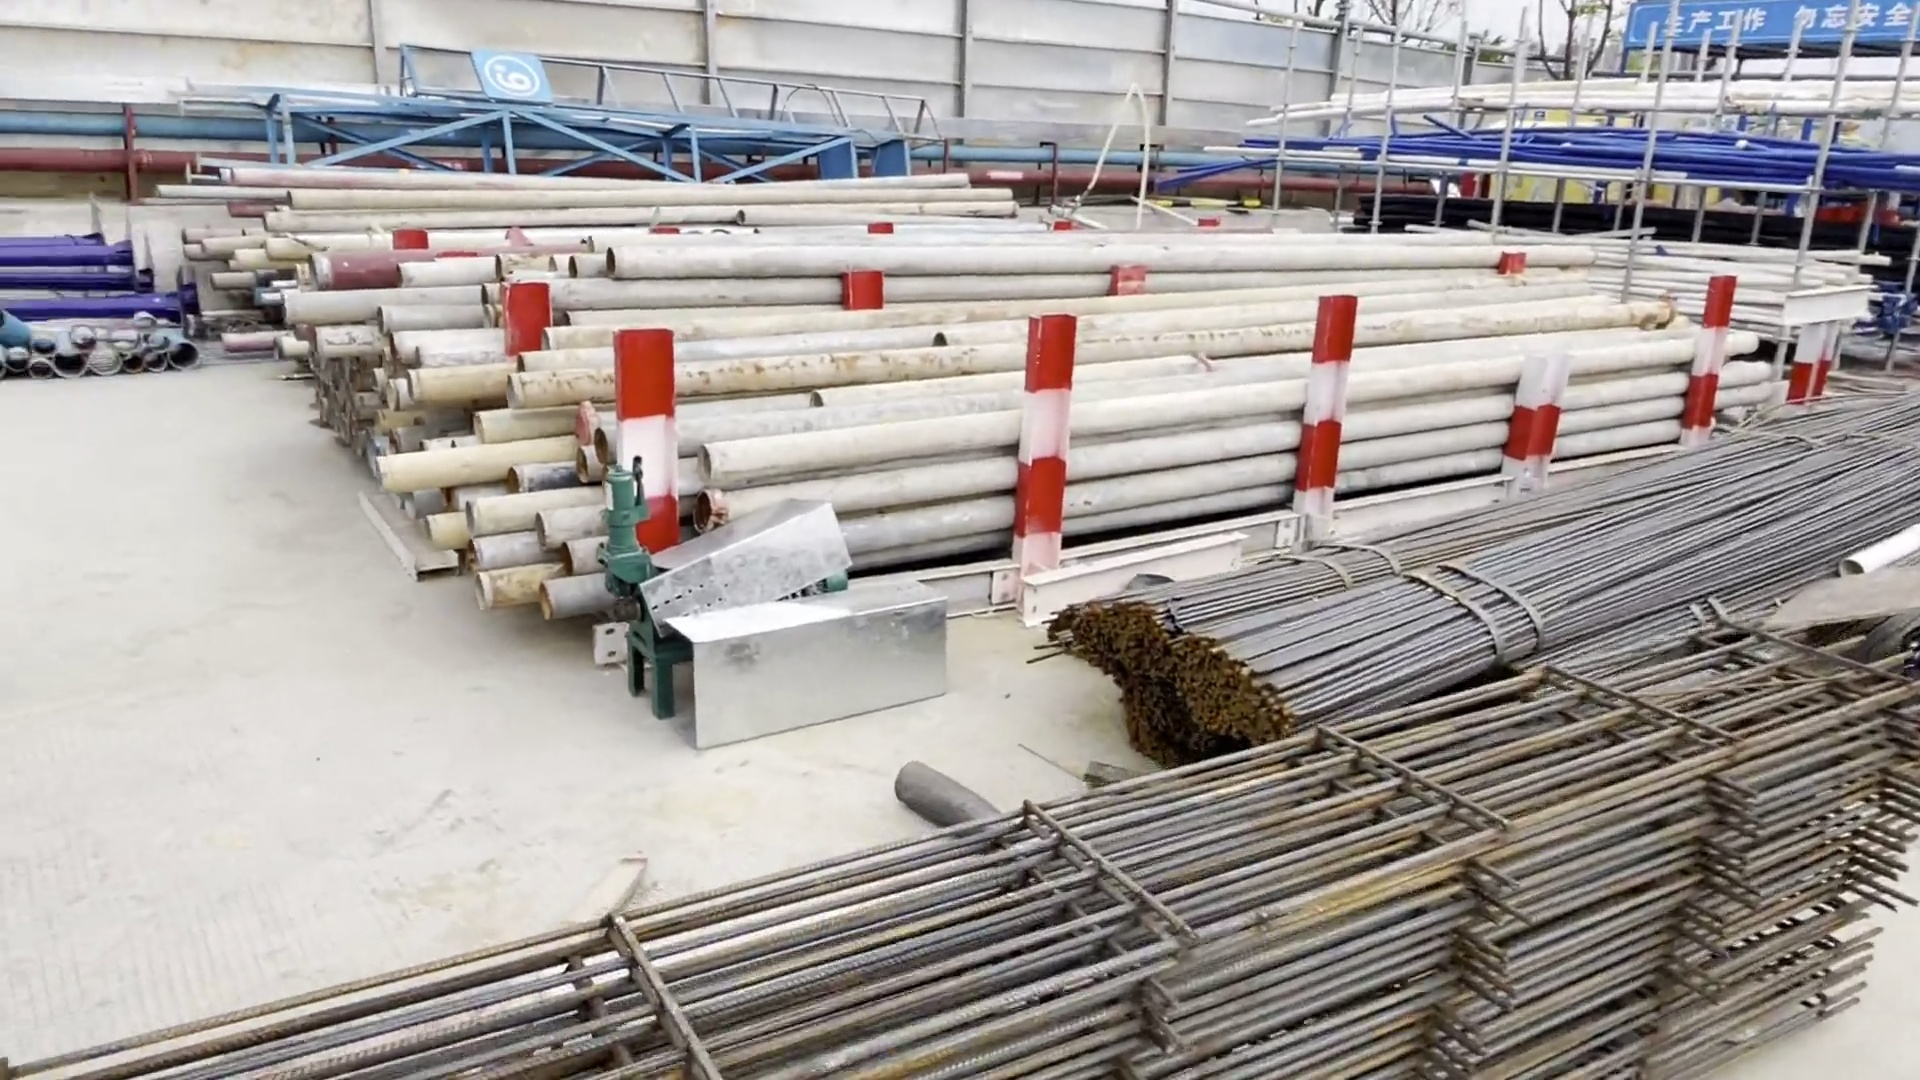rebar: (8, 638, 1900, 1076), (1060, 376, 1920, 752)
slogan: (1629, 1, 1919, 34)
